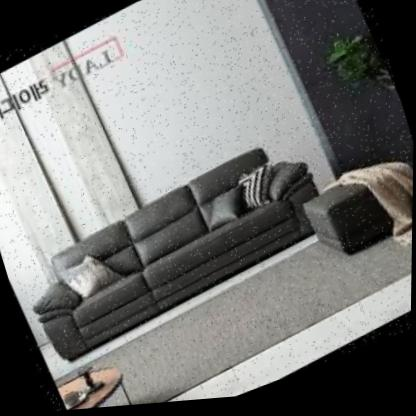Sofa: (0, 93, 368, 397)
